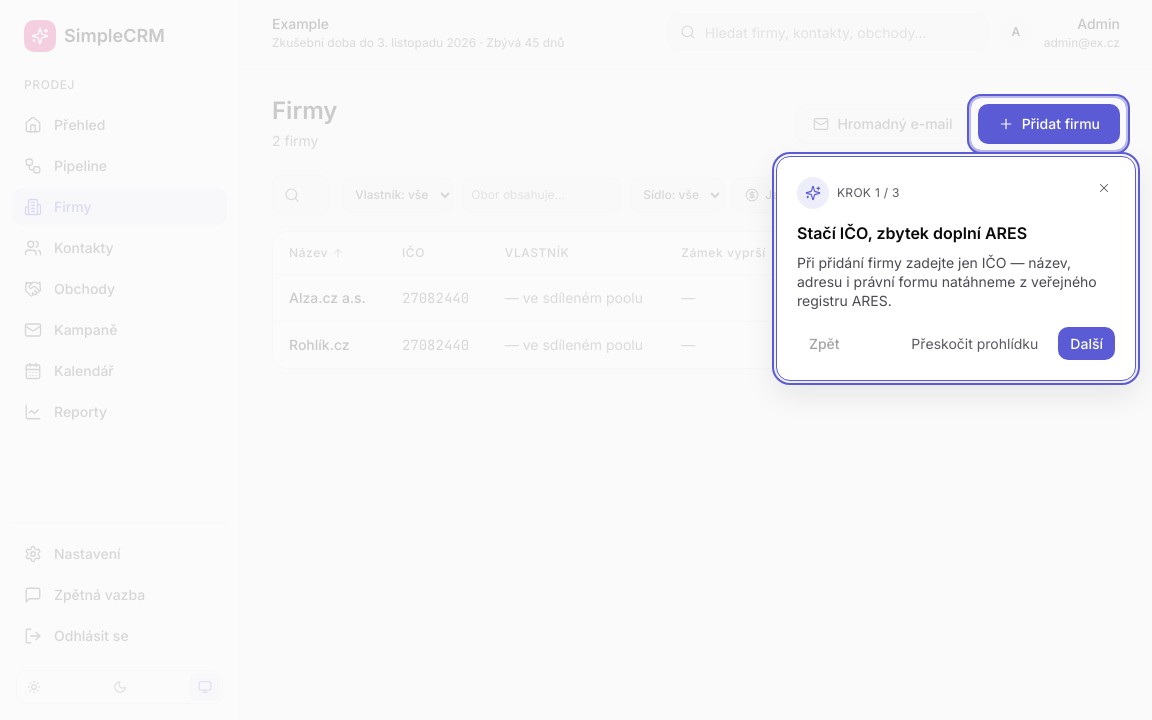
it: Companies table: search + sorting + tabs › debounces search input and passes it to the backend
Type "Alza" into the search field named "hledat firmu". click: (301, 195)
box: [272, 175, 330, 215]
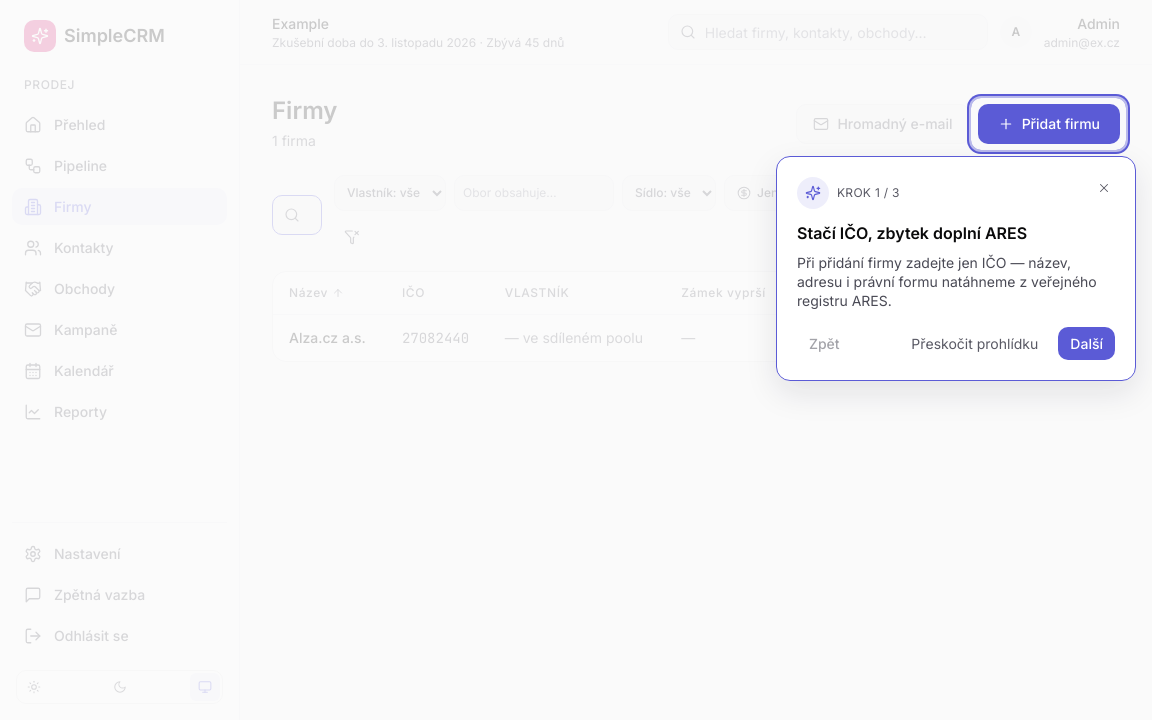
Now the text "Rohlík.cz" is gone
